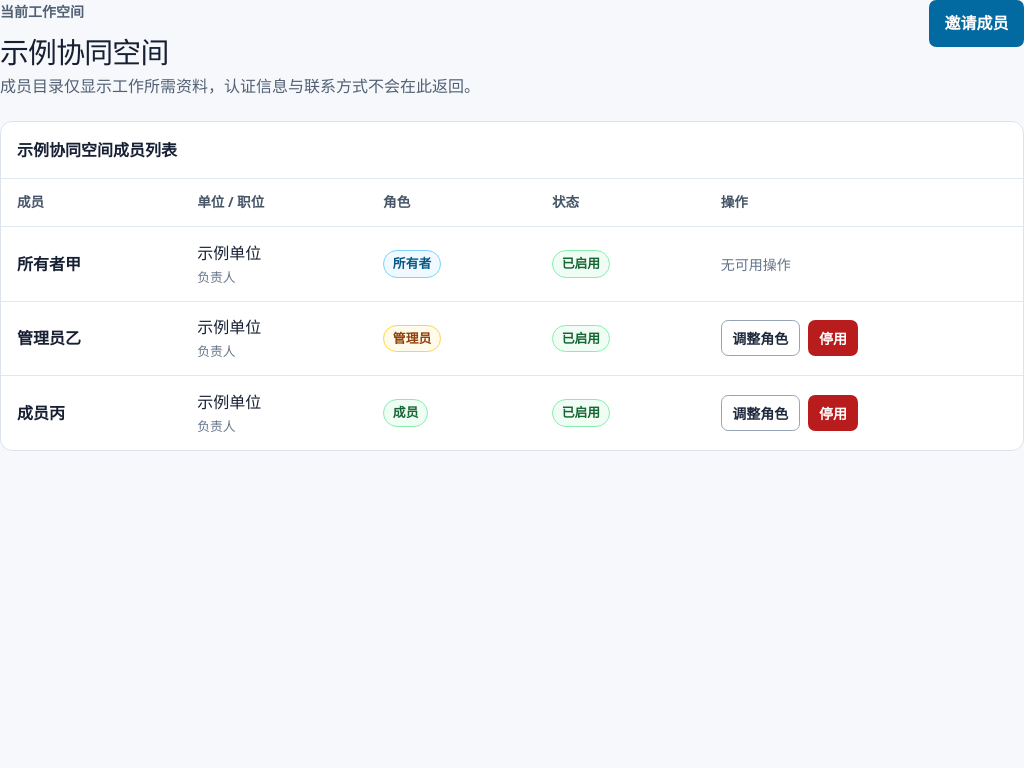
Test: 成员管理页写操作 › 邀请请求未完成时禁用重复提交
The image size is (1024, 768).
Expected: the text "成员丙" is shown, [17,402,65,424]
Click the button "邀请成员": (977, 23) [929,0,1023,47]
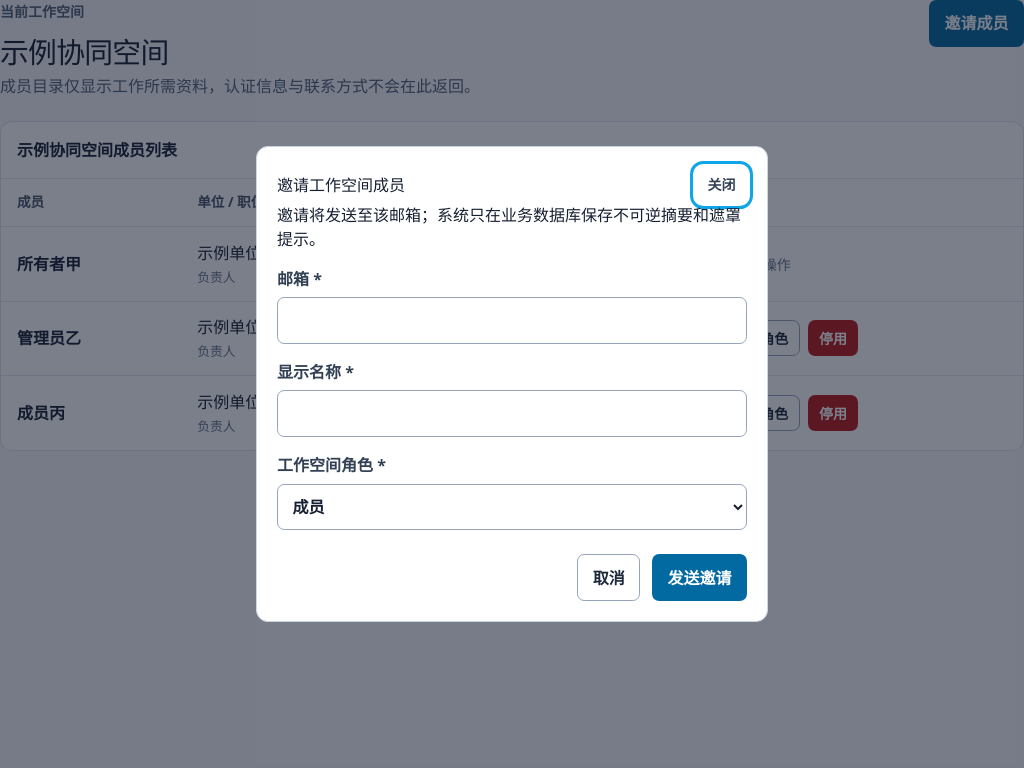
In the field labelled "邮箱 *": (512, 321) [277,297,747,344], type "invitee@example.invalid"
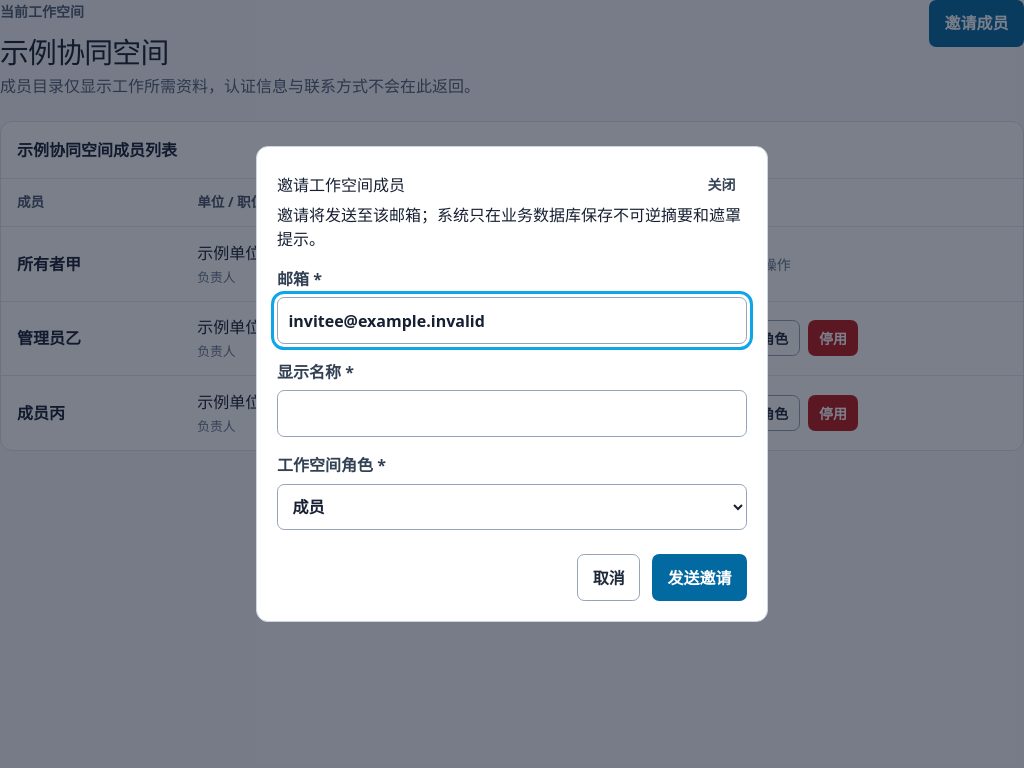
In the field labelled "显示名称 *": (512, 414) [277,390,747,437], type "受邀成员"
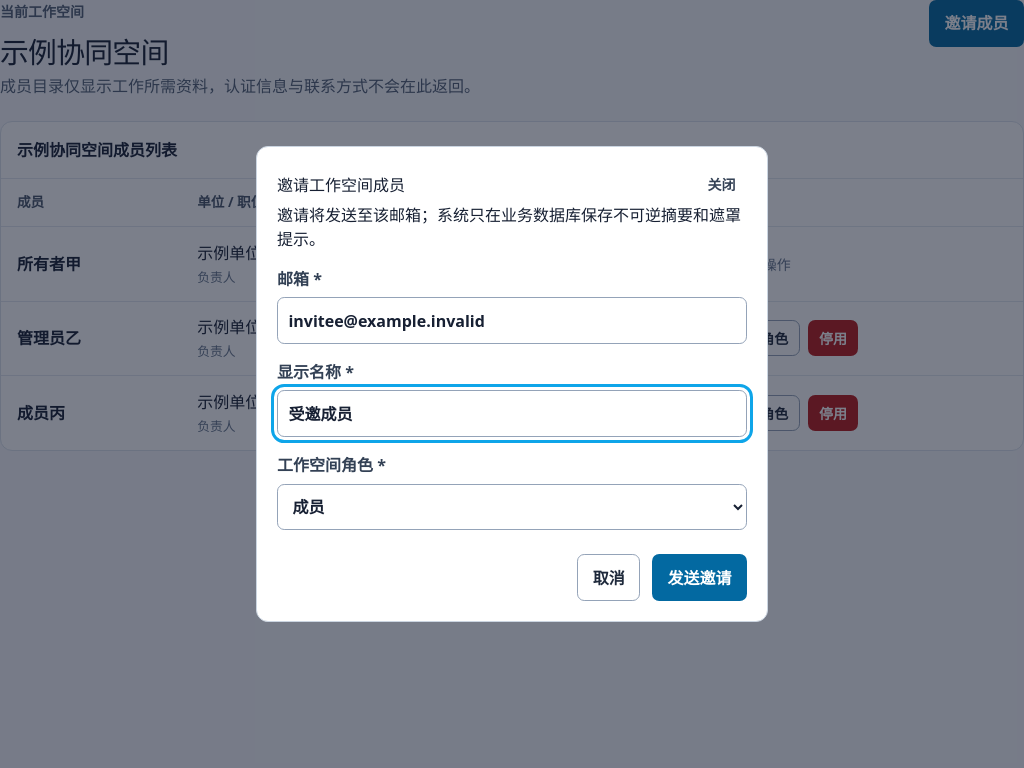
Click the button "发送邀请": (700, 578) [652,554,747,601]
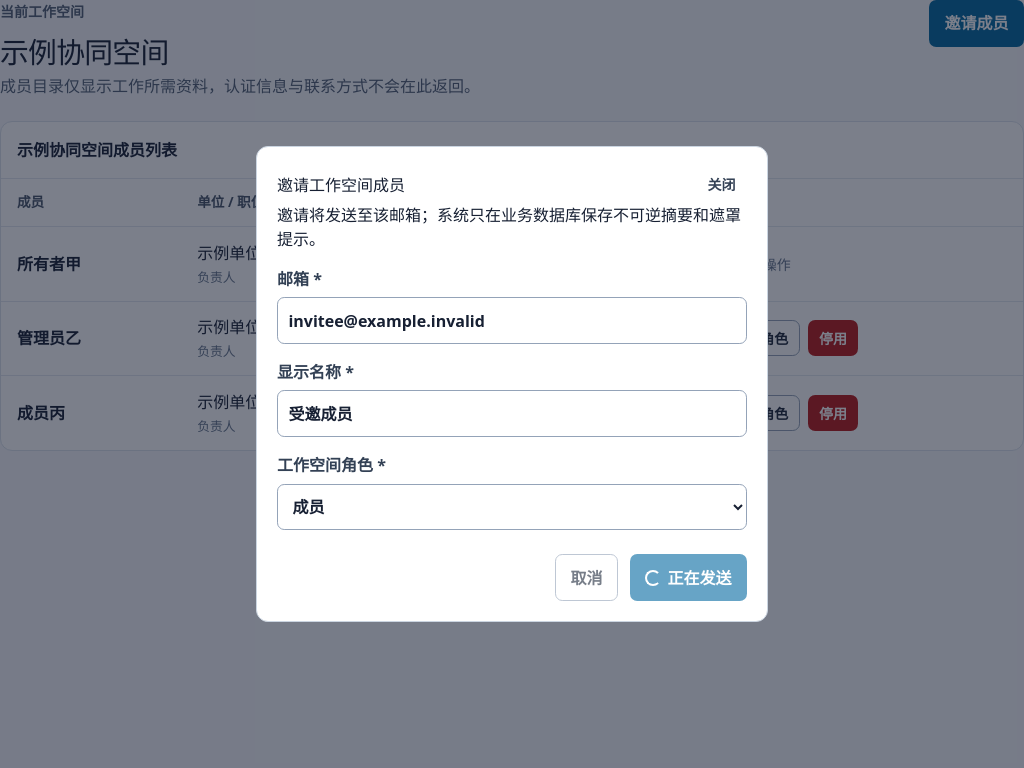
Result: the button "正在发送" is disabled
Click the button "正在发送": (688, 578) [630,554,747,601]
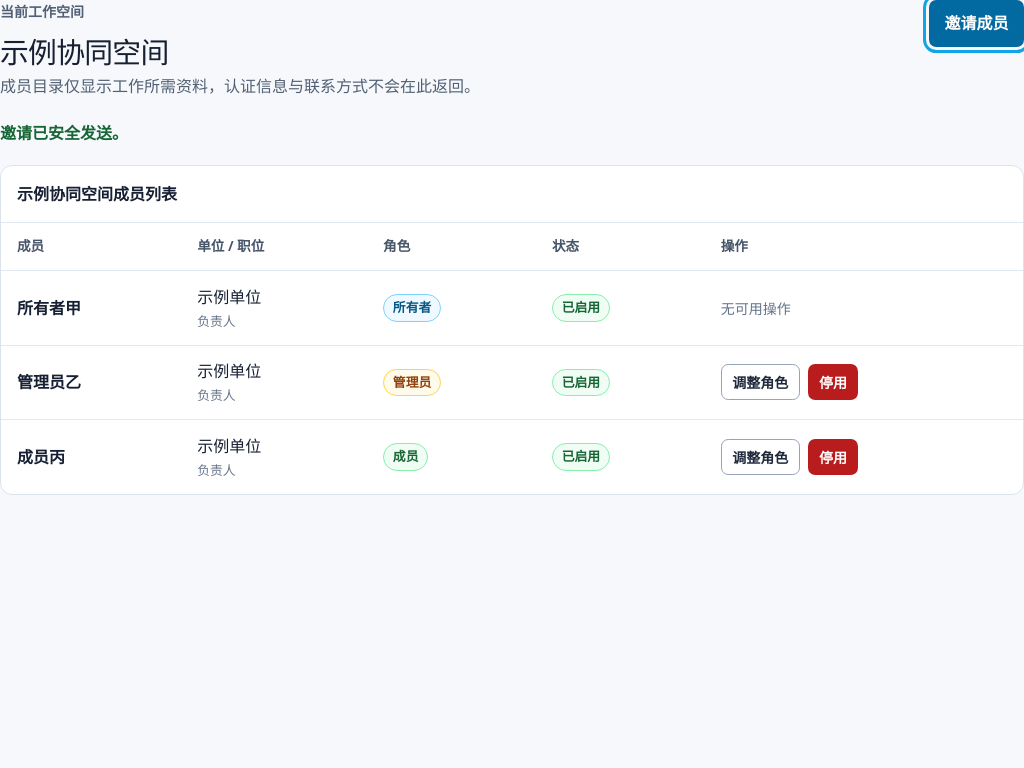
Result: the message reads "邀请已安全发送。" at [0,122,128,144]
